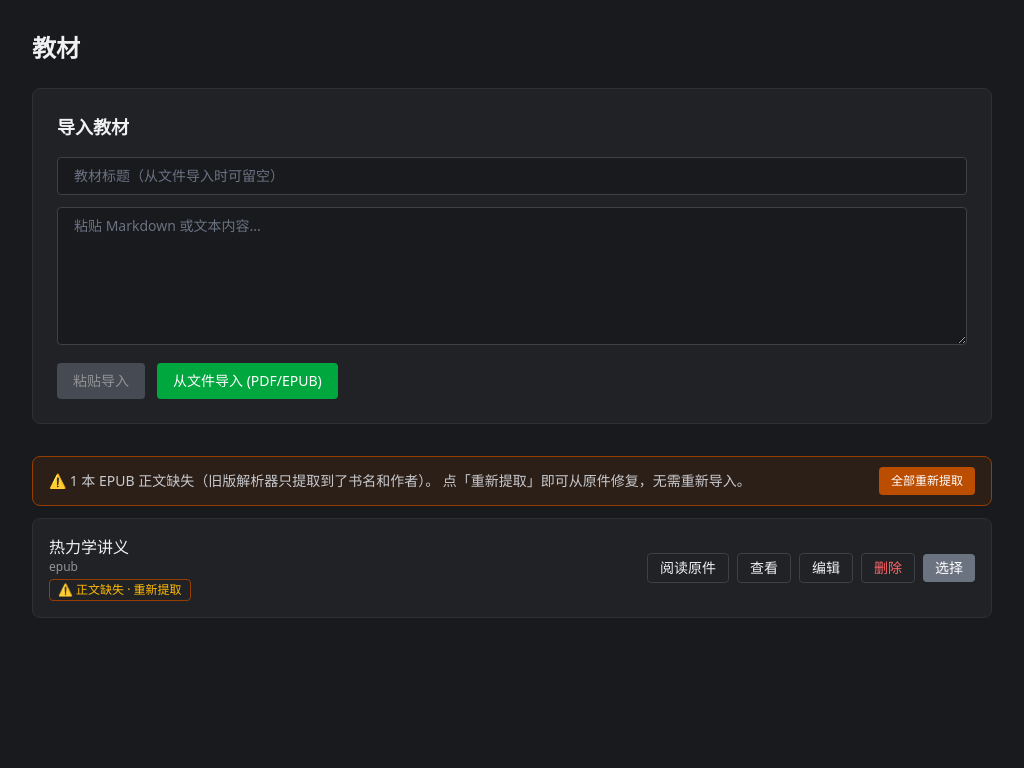
Scenario: TextbooksView — EPUB repair › reports a non-Error repair failure
This screenshot has width=1024, height=768.
Click the button "⚠️ 正文缺失 · 重新提取" at {"x": 120, "y": 590}, box [49,579,191,601]
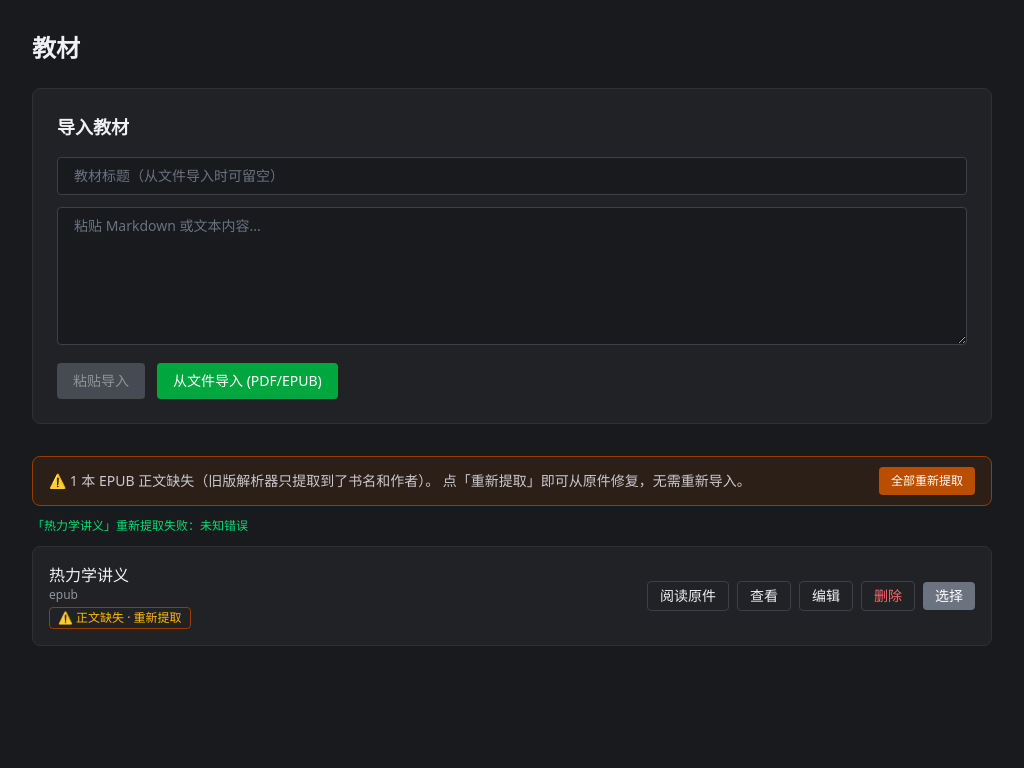
Expected: the text "「热力学讲义」重新提取失败：未知错误" is shown, [32,517,248,534]
